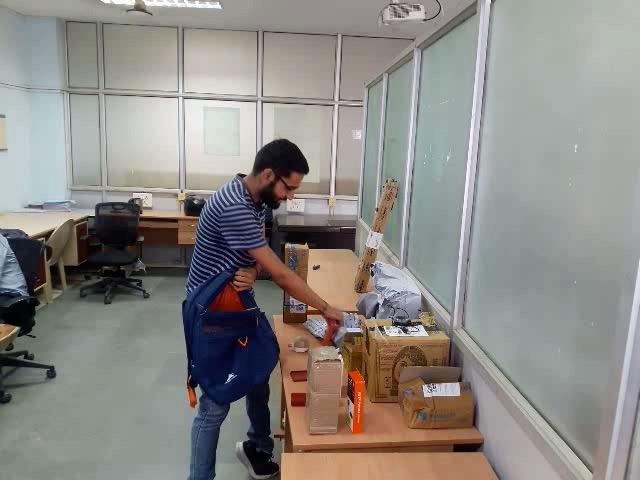shoplifting: (122, 221, 377, 476)
